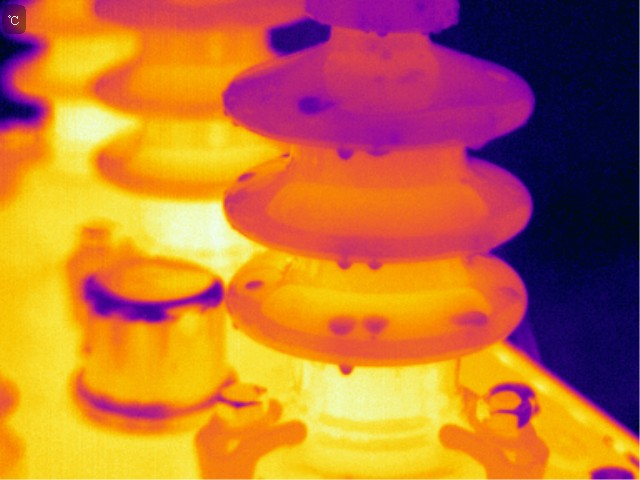Water: (358, 311, 391, 339), (358, 14, 391, 39), (295, 92, 329, 116), (497, 279, 527, 305), (450, 310, 489, 329), (326, 313, 355, 336), (241, 276, 268, 291), (365, 144, 392, 158), (336, 361, 357, 377), (336, 255, 355, 271), (338, 146, 357, 161), (409, 1, 430, 14), (365, 257, 384, 271), (237, 169, 254, 183)
